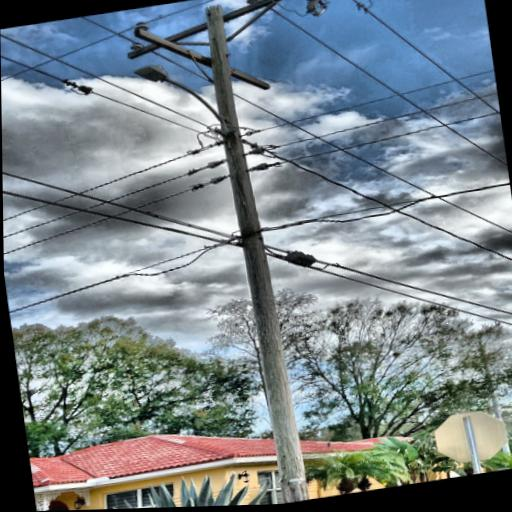pole: (197, 0, 320, 506)
street light: (128, 50, 238, 151)
